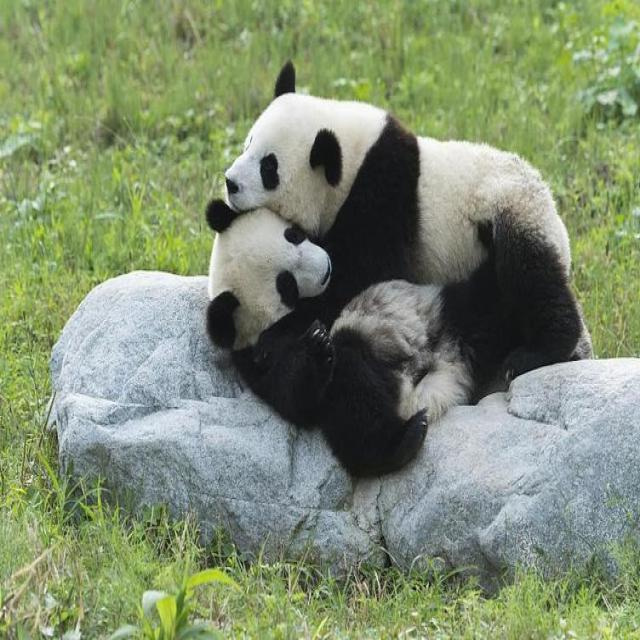panda: (206, 67, 639, 489)
